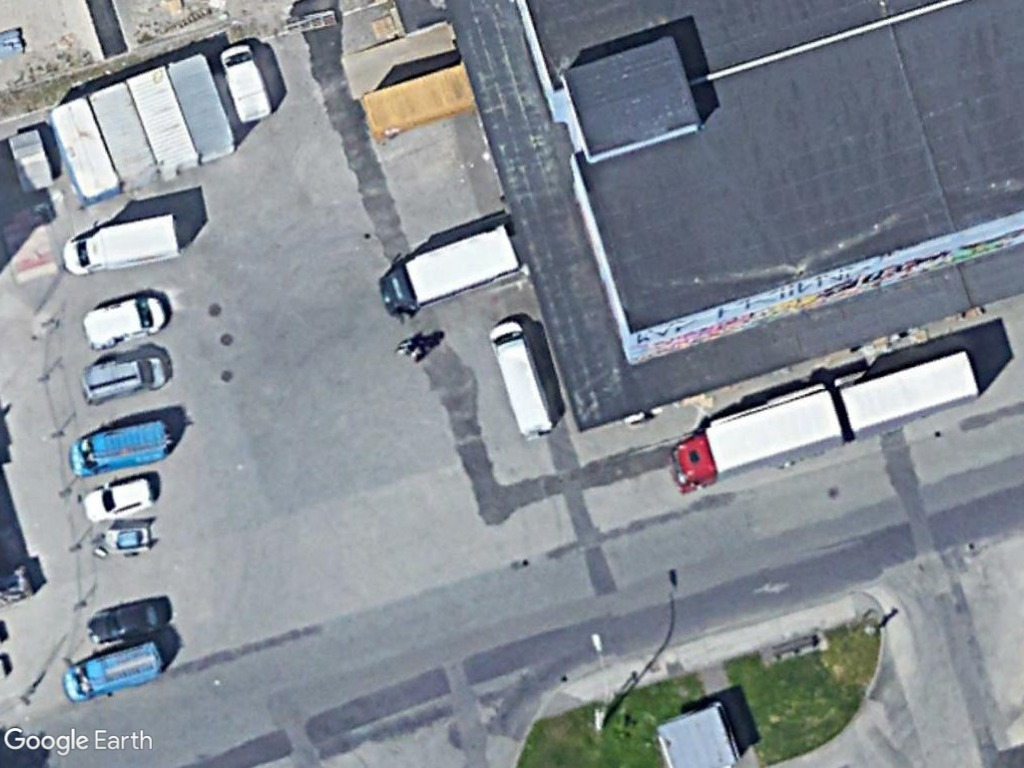car: (78, 467, 163, 525)
truck: (664, 392, 848, 496), (378, 219, 528, 324), (56, 208, 188, 280)
van: (486, 319, 555, 439), (57, 639, 164, 710), (65, 415, 177, 480), (75, 345, 170, 408), (79, 294, 172, 352), (219, 42, 274, 126)
